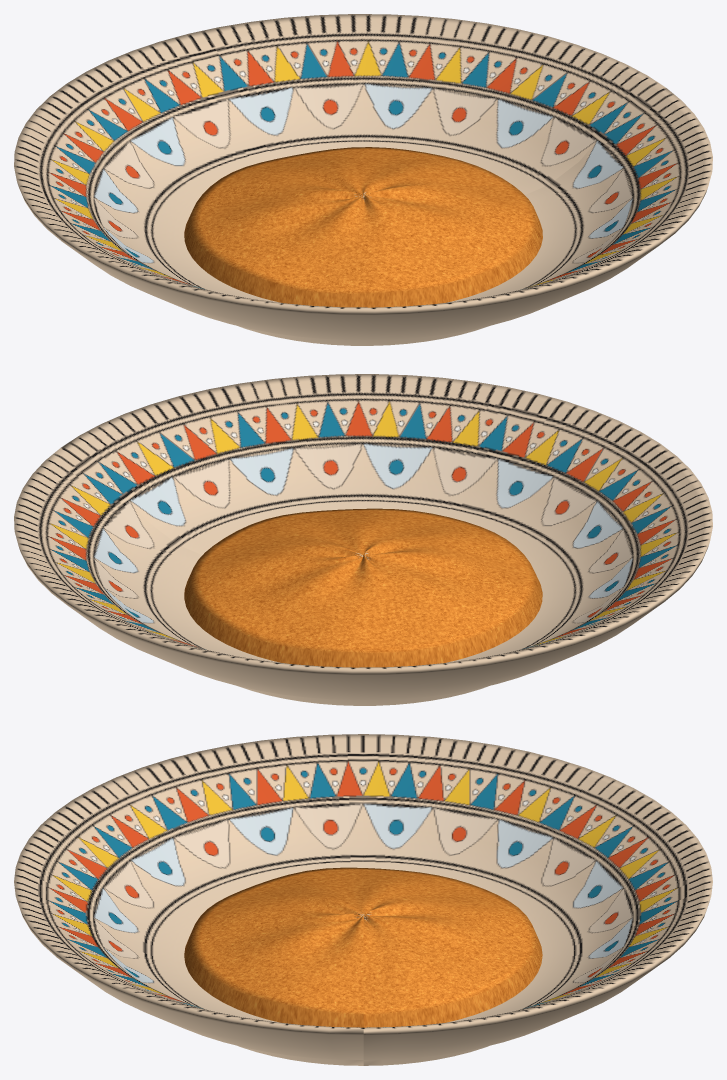
File: Couscous_Plat_020pct.obj
The picture shows the model from 3 angles, top to bottom: view 1: azimuth 30°, elevation 25°; view 2: azimuth 150°, elevation 25°; view 3: azimuth 270°, elevation 25°; orthographic projection.
Visible parts, largest first — view 1: 00_Plate_Tebsi_Ceramic, 01_Couscous_Semolina_Mound; view 2: 00_Plate_Tebsi_Ceramic, 01_Couscous_Semolina_Mound; view 3: 00_Plate_Tebsi_Ceramic, 01_Couscous_Semolina_Mound.
Boxes of the visible parts, x1,y1,x2,y2 form: 00_Plate_Tebsi_Ceramic: [14, 14, 712, 345]; 01_Couscous_Semolina_Mound: [184, 147, 542, 307]; 00_Plate_Tebsi_Ceramic: [14, 374, 712, 705]; 01_Couscous_Semolina_Mound: [184, 508, 542, 667]; 00_Plate_Tebsi_Ceramic: [14, 734, 712, 1065]; 01_Couscous_Semolina_Mound: [184, 867, 542, 1027].
Size of the model in its own units: 0.32 by 0.052 by 0.32.
1 material, 1 textured.
